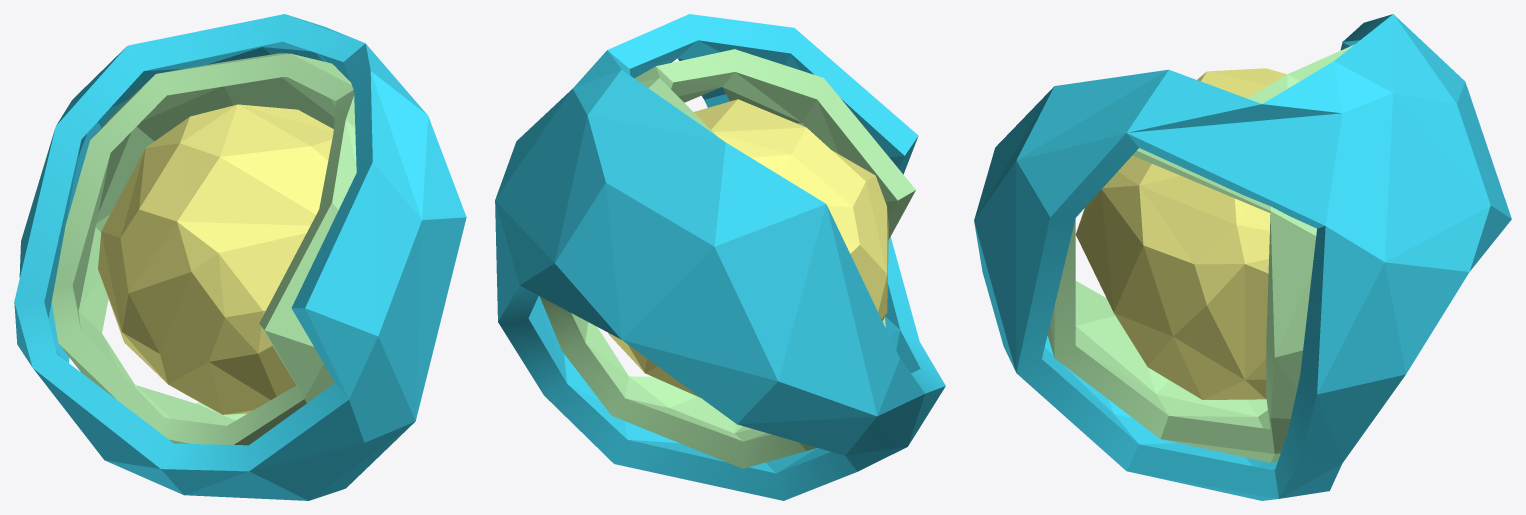
File: Planet_09_b.fbx
3 views of the same model, side by side, from view 1: azimuth 30°, elevation 25°; view 2: azimuth 150°, elevation 25°; view 3: azimuth 270°, elevation 25° (orthographic). The views are drawn at different scales.
Parts seen in each view (by area): view 1: Planet_016; view 2: Planet_016; view 3: Planet_016.
Part boxes in pixels (x1,y1,x2,y2): Planet_016: (14,14,466,500); Planet_016: (495,14,945,500); Planet_016: (974,14,1511,500).
Size of the model in its own units: 78.3 by 78.56 by 83.72.
